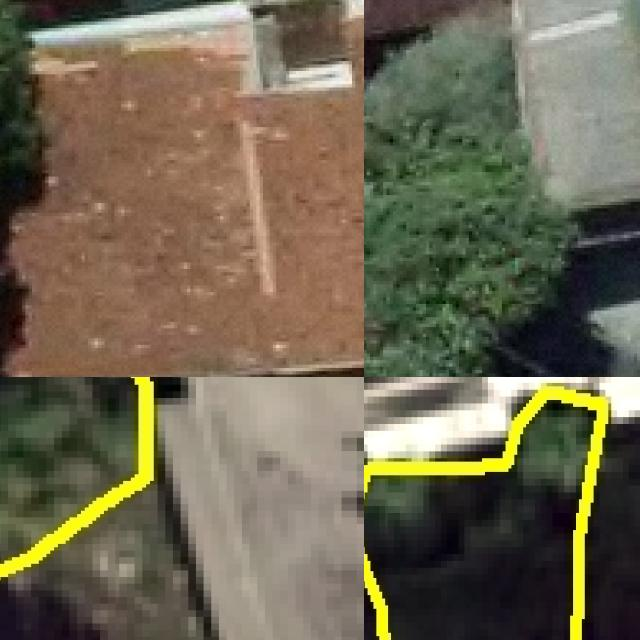trees: (365, 28, 572, 378), (365, 391, 603, 640), (1, 378, 147, 572)
